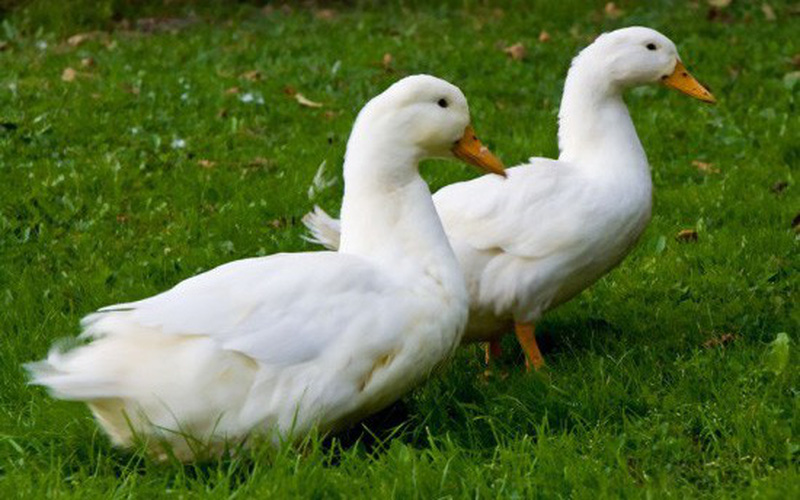Vịt/Duck: (203, 58, 518, 410), (499, 8, 746, 343)
